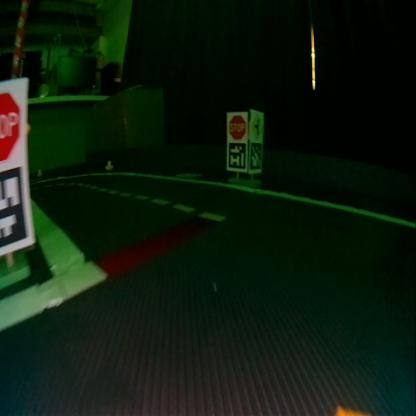Duckie: (36, 169, 43, 176), (105, 160, 111, 168)
Intersection sign: (251, 114, 263, 136)
QR code: (0, 169, 35, 253), (227, 145, 246, 170), (249, 141, 261, 171)
Stop sign: (0, 77, 23, 165), (226, 112, 246, 138)
